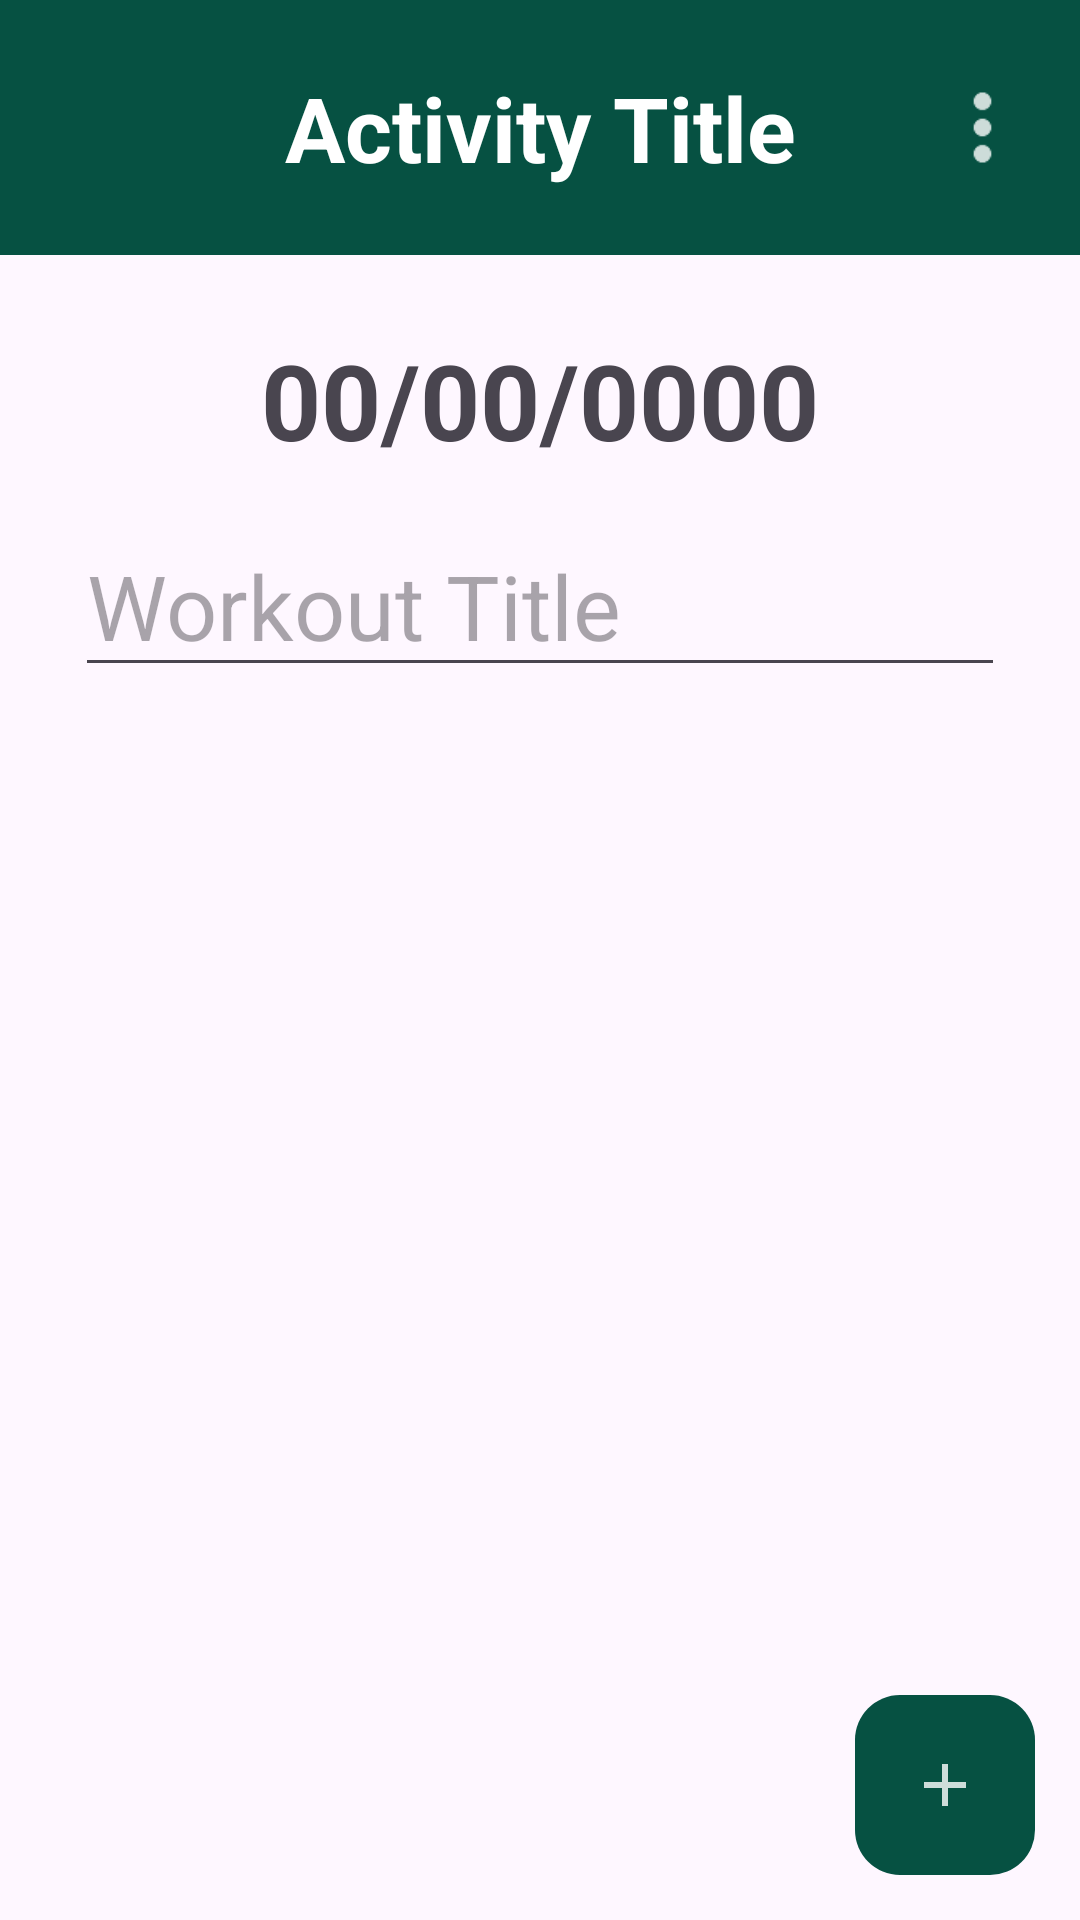

Point at icon controls on the screen. Image size 1080*1920, points as point (x, y).
plus sign: point (945, 1785)
